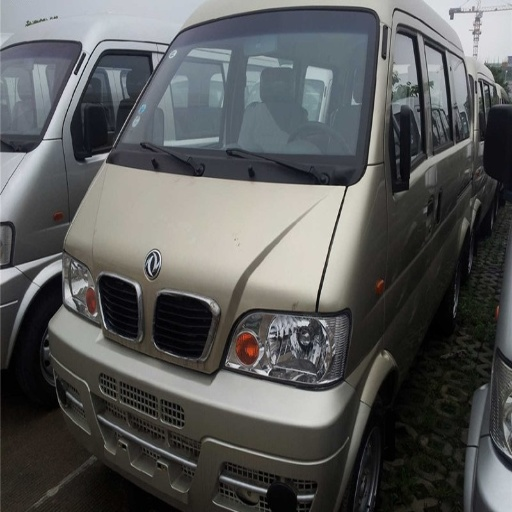front_bumper: (43, 248, 366, 510)
front_glass: (104, 12, 376, 180), (8, 42, 82, 98)
front_left_door: (389, 32, 439, 269), (68, 71, 101, 146)
front_left_light: (223, 312, 350, 388)
front_right_light: (64, 249, 101, 324)
